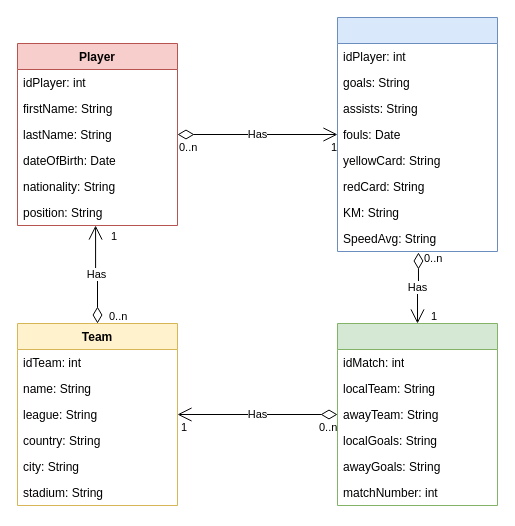
Image size: 515x526. Some labels were removed from this diagram. Each missing label, with the box of its shape:
Matches: (336, 322, 498, 506)
Statistics: (336, 16, 498, 252)
